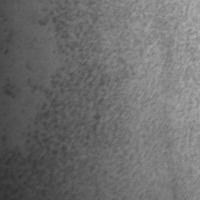pitted_surface: (15, 2, 127, 181)
